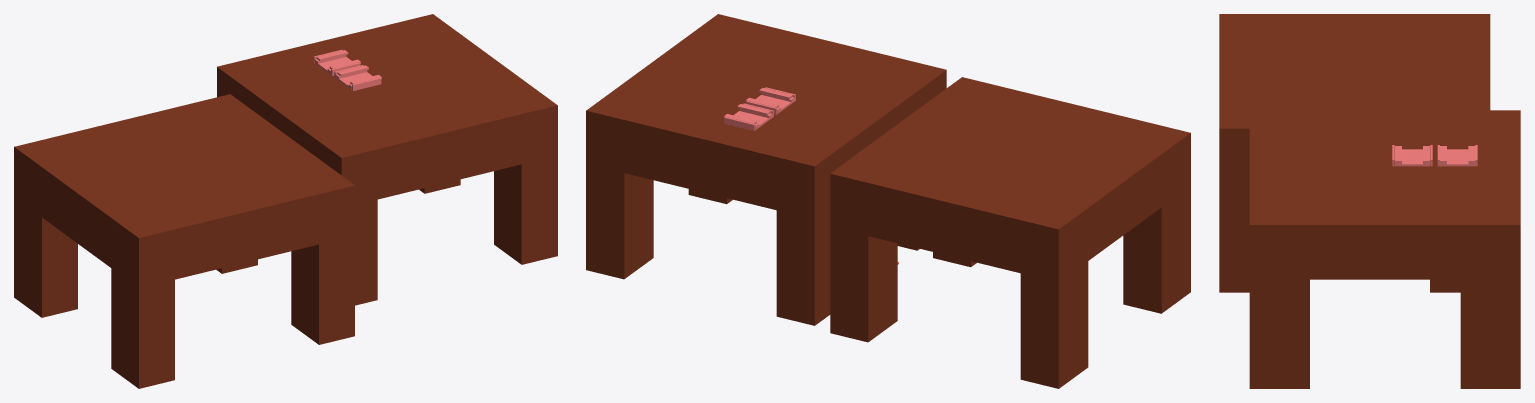
File: keva_double_run_1.dae
The picture shows the model from 3 angles, left to right: view 1: azimuth 30°, elevation 25°; view 2: azimuth 150°, elevation 25°; view 3: azimuth 270°, elevation 25°; orthographic projection. The views are drawn at different scales.
Visible parts, largest first — view 1: base (×7); view 2: base (×7); view 3: base (×8).
Part boxes in pixels (x1,y1,x2,y2): base (×7): (14, 14, 557, 388); base (×7): (586, 14, 1190, 388); base (×8): (1219, 14, 1520, 388).
Size of the model in its own units: 1.8 by 1 by 0.6908.
